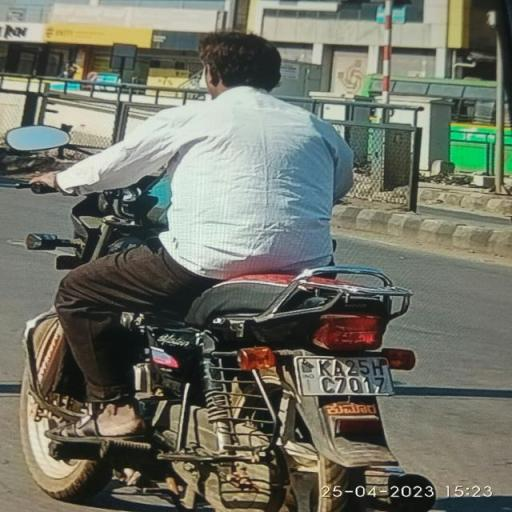bike: (0, 21, 432, 512)
numberplate: (298, 355, 394, 396)
withouthelmet: (204, 32, 277, 90)
